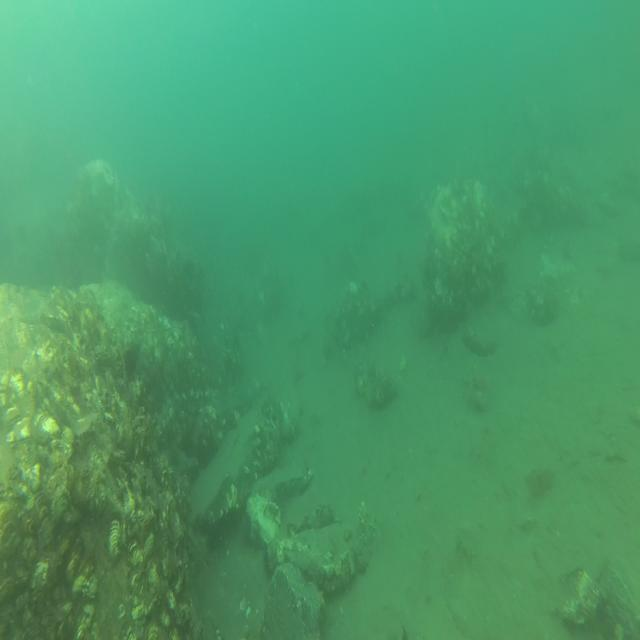echinus: (122, 343, 140, 380)
